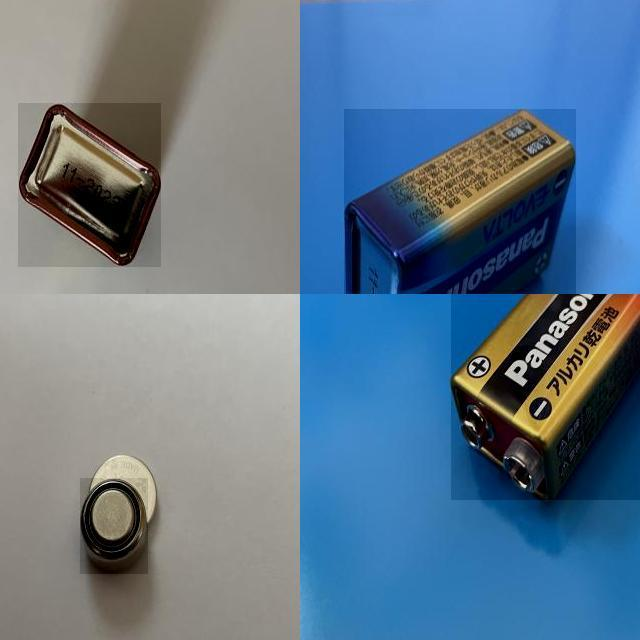9V: (344, 109, 576, 294), (451, 294, 640, 500), (18, 103, 161, 268)
